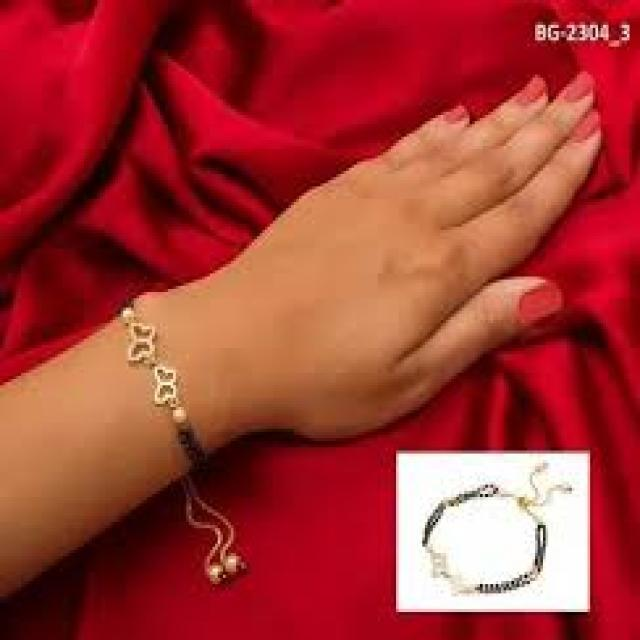Nail: (518, 279, 562, 325), (566, 107, 600, 144), (553, 71, 593, 101), (509, 76, 546, 102), (432, 105, 469, 126)
